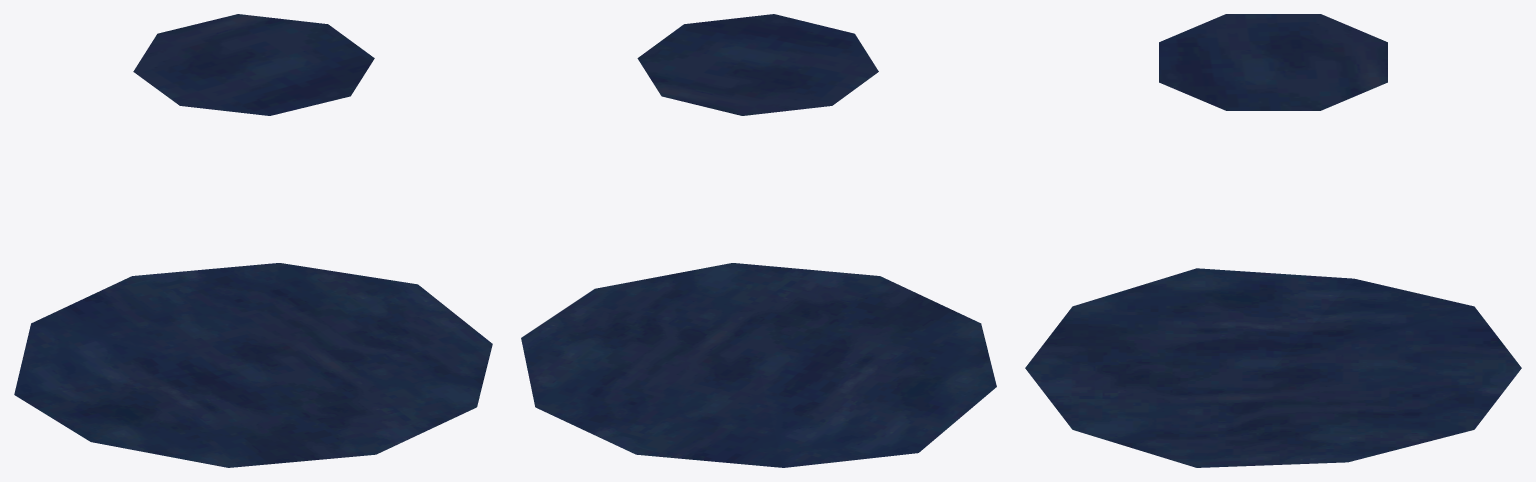
The model's file is stemple_fountain_02.fbx.
3 views of the same model, side by side, from view 1: azimuth 30°, elevation 25°; view 2: azimuth 150°, elevation 25°; view 3: azimuth 270°, elevation 25° (orthographic).
Visible parts, largest first — view 1: Fountain_multi/water_mat; view 2: Fountain_multi/water_mat; view 3: Fountain_multi/water_mat.
Part boxes in pixels (x1,y1,x2,y2): Fountain_multi/water_mat: [14, 14, 492, 467]; Fountain_multi/water_mat: [521, 14, 996, 467]; Fountain_multi/water_mat: [1025, 14, 1521, 467].
Bounding box in the file's own units: 3.54 × 2.61 × 3.72.
